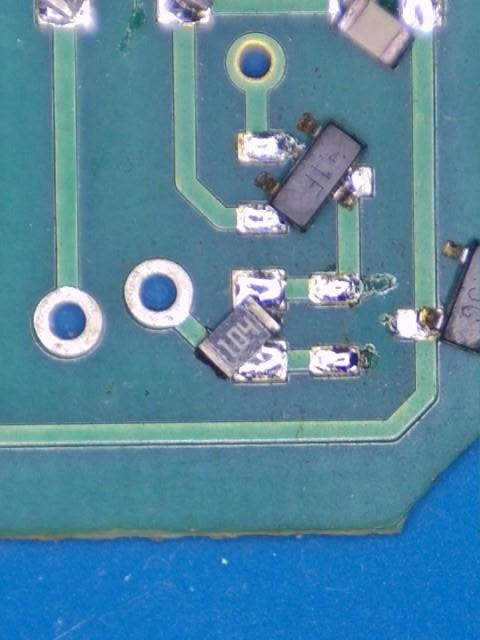pcb_defect: (237, 112, 374, 236), (195, 269, 288, 385), (396, 239, 480, 356), (329, 0, 444, 70)
